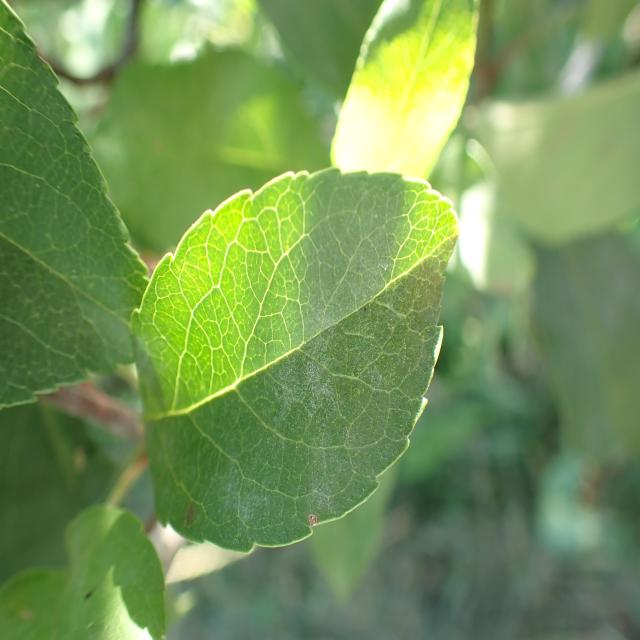Powdery_mildew: (183, 175, 456, 555)
